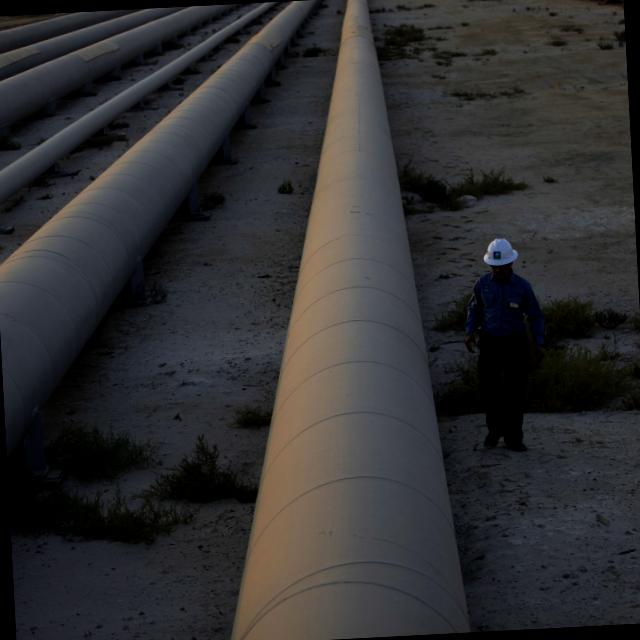gas: (231, 0, 472, 640), (0, 0, 318, 454)
